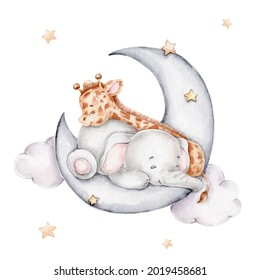elephant: (69, 115, 205, 194)
